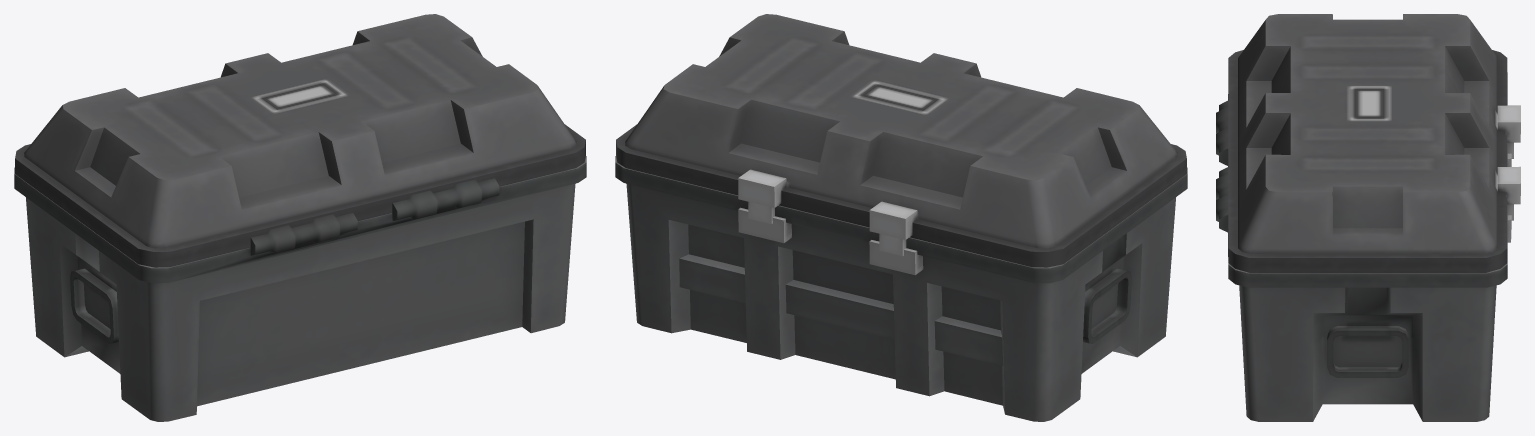
File: Prfb_Lootbox.fbx
The picture shows the model from 3 angles, left to right: view 1: azimuth 30°, elevation 25°; view 2: azimuth 150°, elevation 25°; view 3: azimuth 270°, elevation 25°; orthographic projection. The views are drawn at different scales.
Visible parts, largest first — view 1: Mat_Lootbox_03; view 2: Mat_Lootbox_03; view 3: Mat_Lootbox_03.
Boxes of the visible parts, <box> form: Mat_Lootbox_03: <box>14,14,586,421</box>; Mat_Lootbox_03: <box>615,14,1187,421</box>; Mat_Lootbox_03: <box>1216,14,1520,421</box>.
Size of the model in its own units: 1.52 by 0.7472 by 0.9318.
Materials: 1 (1 with a texture image).
